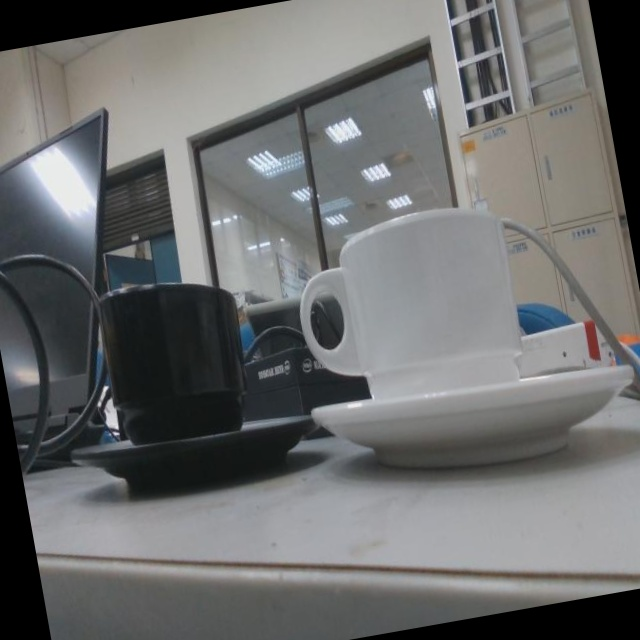black: (57, 272, 310, 493)
white: (299, 199, 628, 474)
